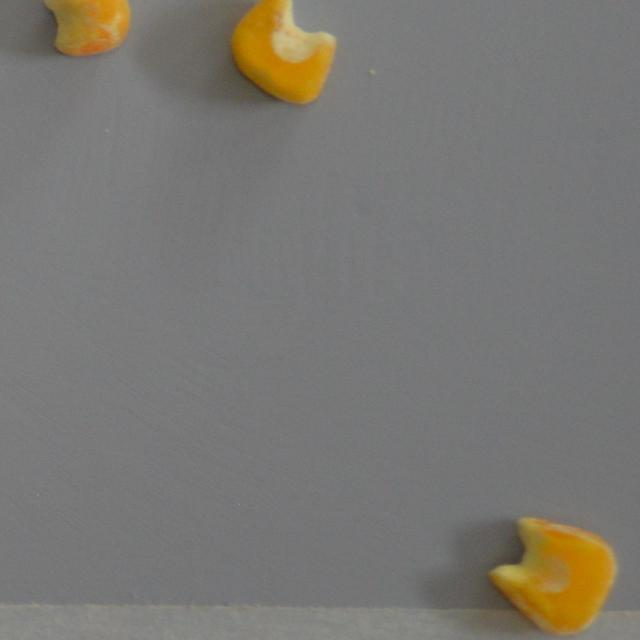no_canjicado: (228, 0, 336, 106)
pelicula: (486, 506, 619, 634), (42, 0, 129, 56)
